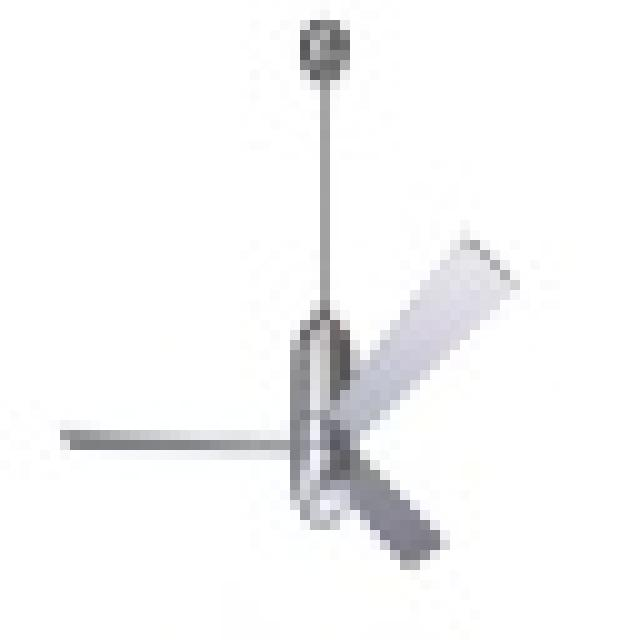Bulb: (81, 230, 542, 561)
